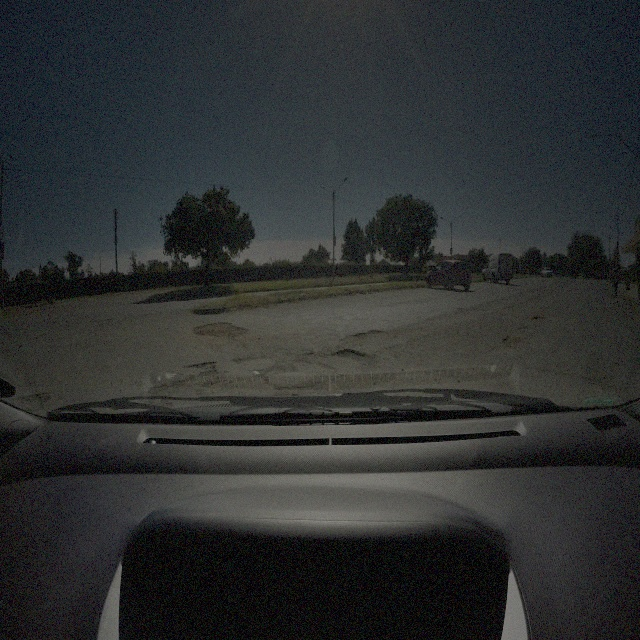pothole: (191, 319, 249, 339), (335, 347, 367, 362), (185, 361, 218, 374), (352, 329, 383, 342), (502, 335, 522, 346), (233, 358, 242, 367), (534, 317, 547, 320)
